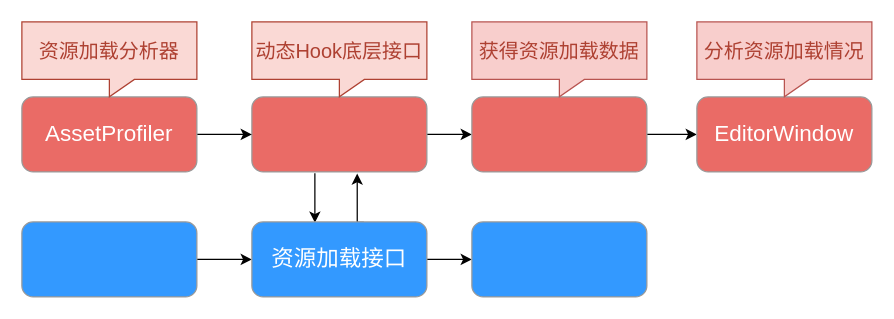
Some shapes in this 894 by 319 pixel diagram are drawn without their labels. The shapes that lost their labels are listed below. From the top down, each one's centre as x and y in pixels, then its label:
At pixel 339 134: "MonoHook".
At pixel 559 134: "ProfilerSample".
At pixel 109 259: "AssetManager".
At pixel 559 259: "加载 战斗资源".
